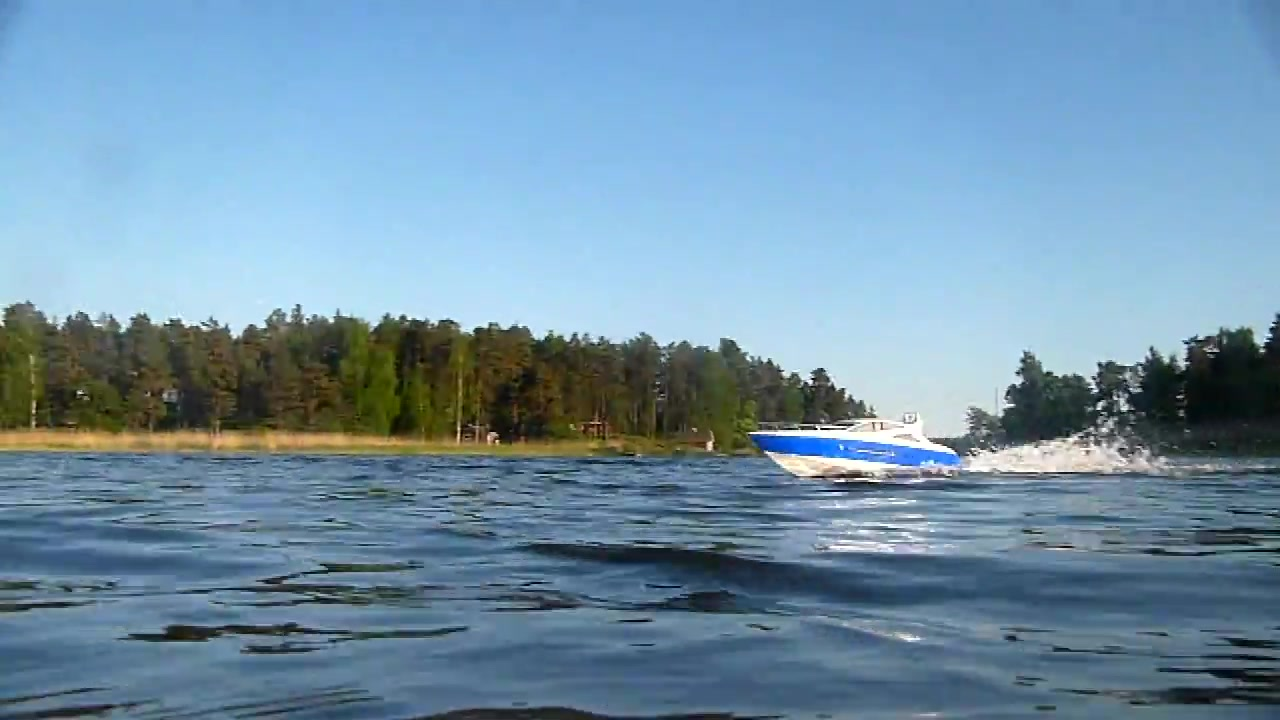boat: (748, 411, 964, 484)
